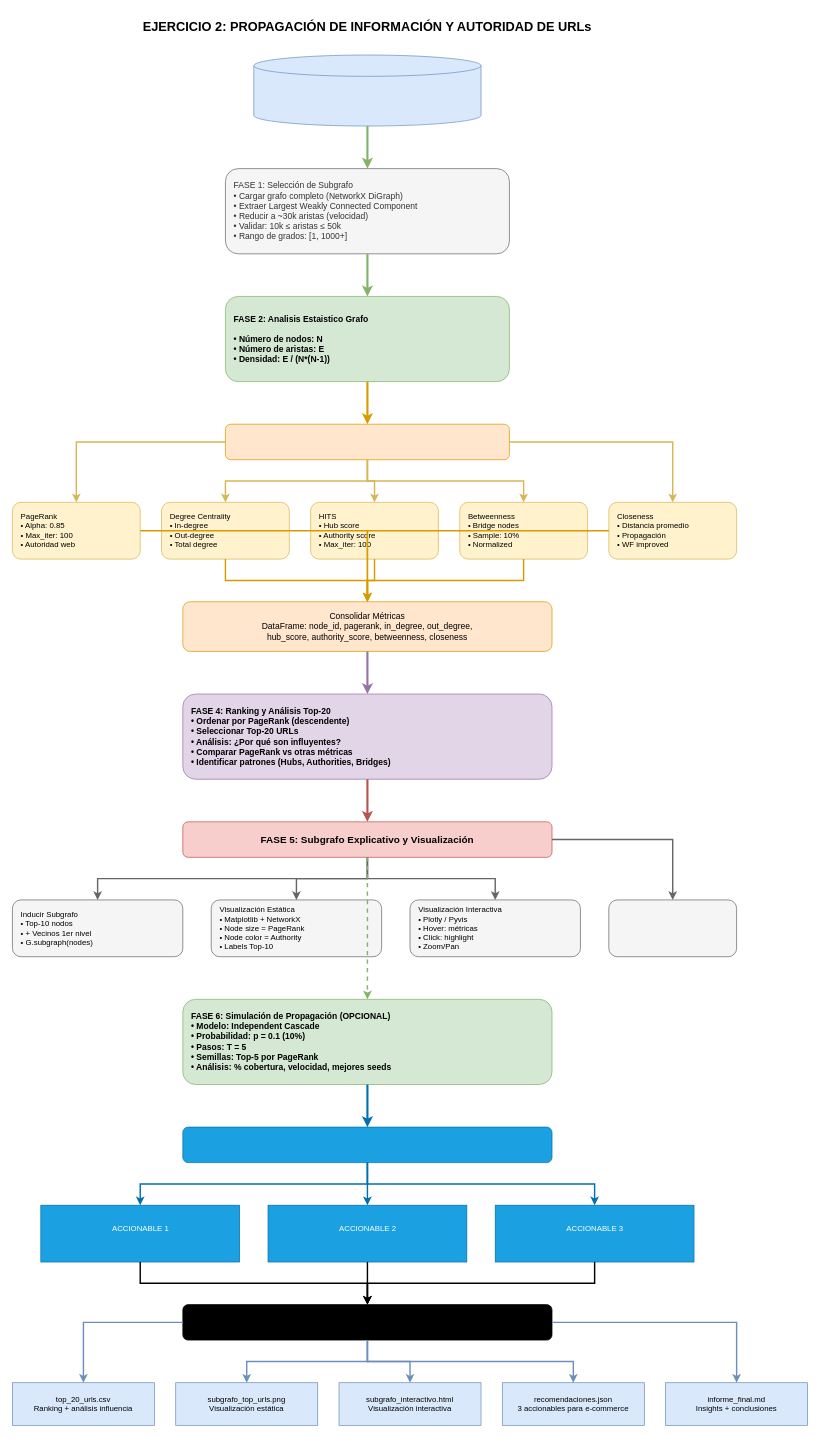
The diagram is 820 pixels wide and 1438 high, and some of its shapes have lost their labels. Here are the shapes that lost their labels. From the top down, the box of each, then its label:
(253, 54, 481, 126): Dataset: web-Stanford.txt
(225, 424, 509, 460): FASE 3: Cálculo de Métricas de Centralidad
(608, 899, 737, 957): Insights • ¿Por qué este subgrafo? • Patrones observados • Clustering
(182, 1126, 552, 1163): FASE 7: Recomendaciones para E-Commerce
(182, 1304, 552, 1340): OUTPUTS FINALES
